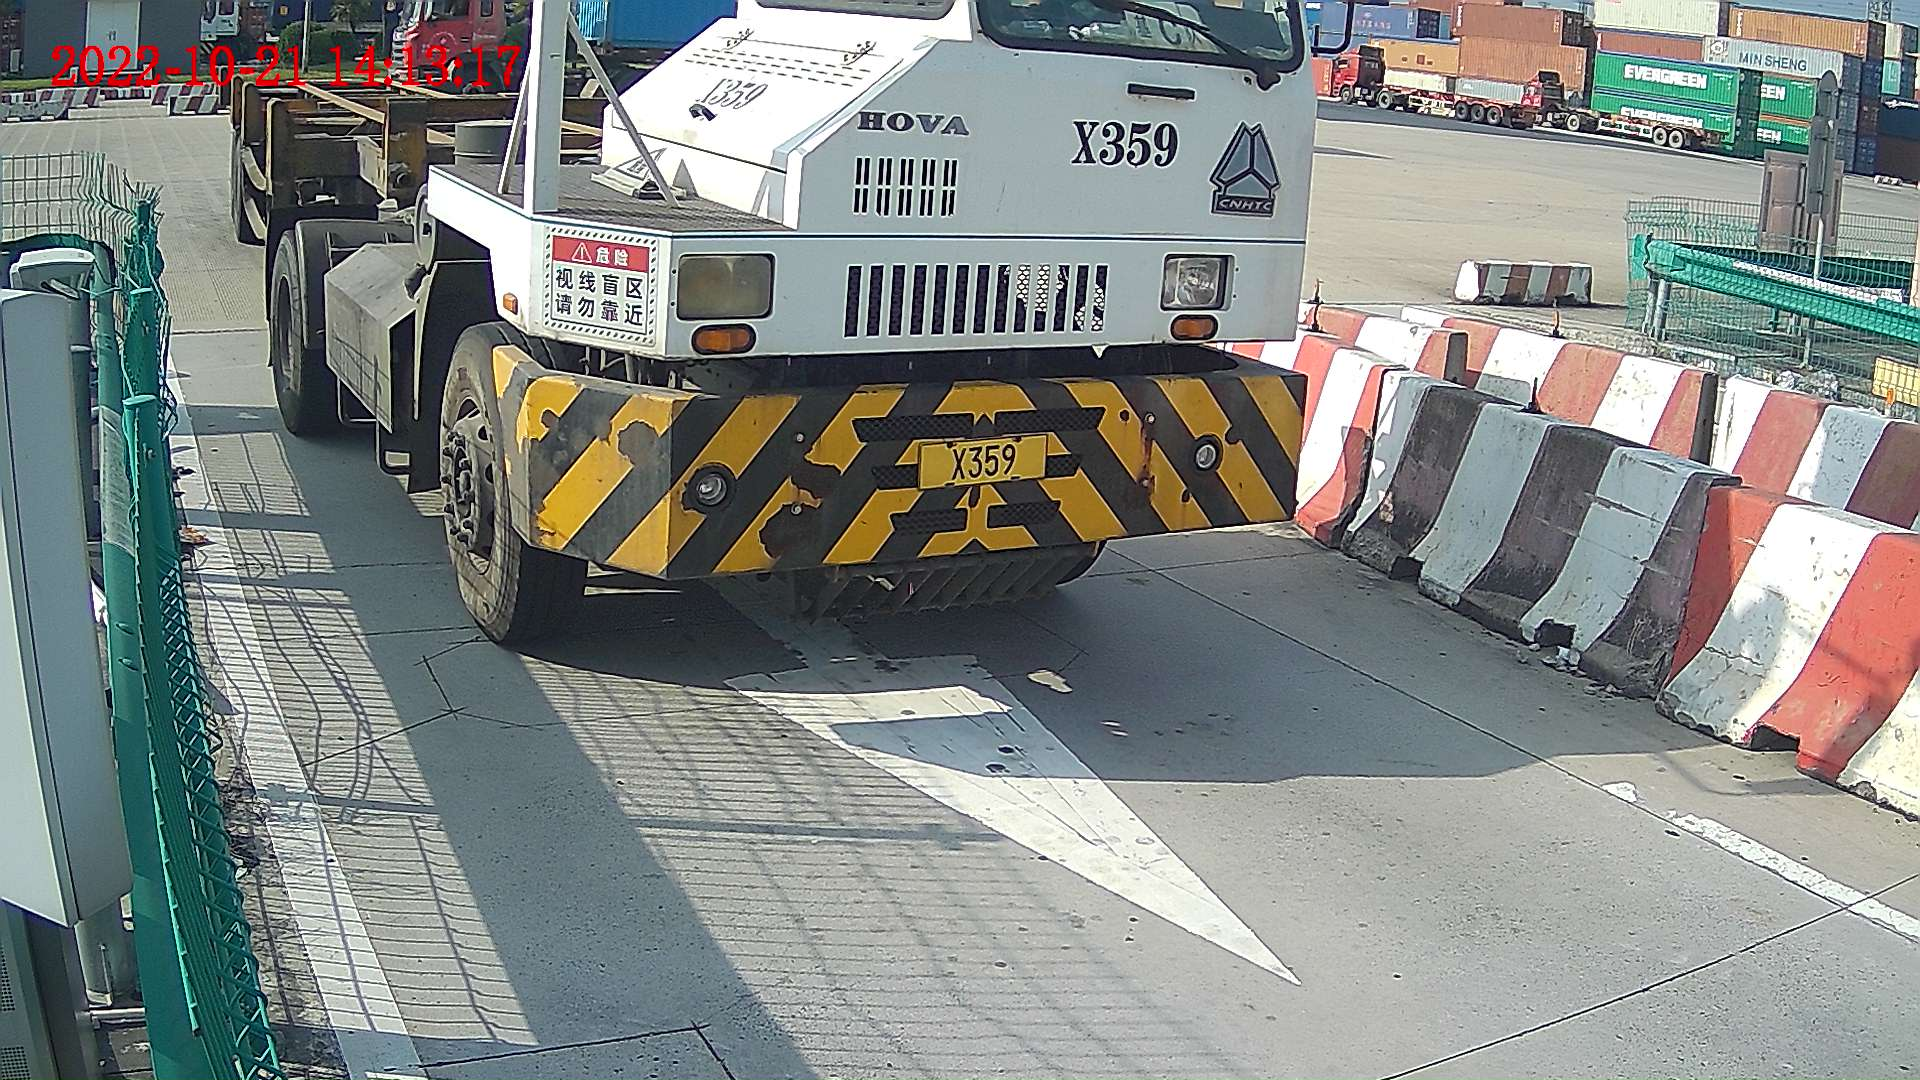head: (456, 1, 1322, 652)
plate: (921, 442, 1045, 481)
